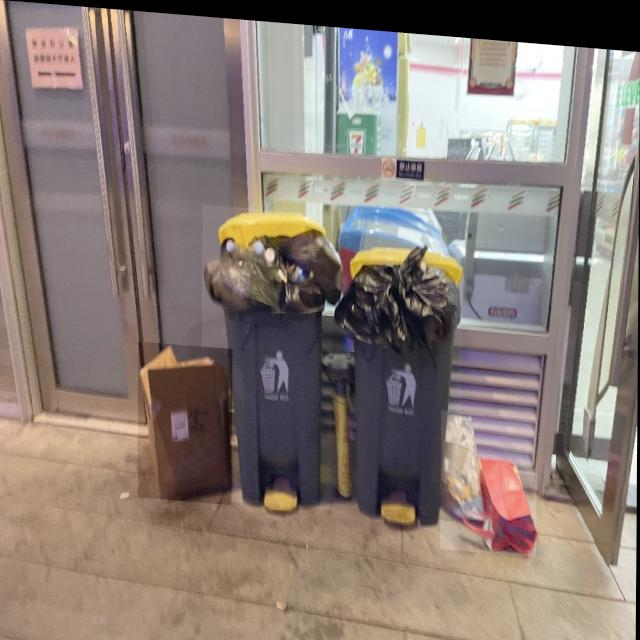garbage: (139, 339, 234, 501), (441, 402, 538, 548)
overflow: (201, 201, 337, 505), (331, 229, 463, 521)
